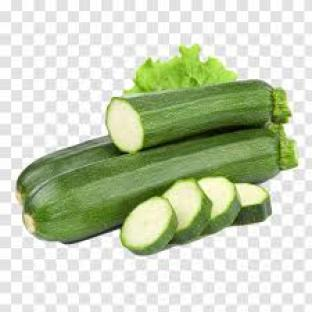Zucchini: (24, 127, 296, 242), (106, 81, 291, 152), (17, 136, 120, 203), (121, 197, 177, 255), (164, 179, 212, 242), (199, 178, 239, 235), (233, 184, 271, 224)
